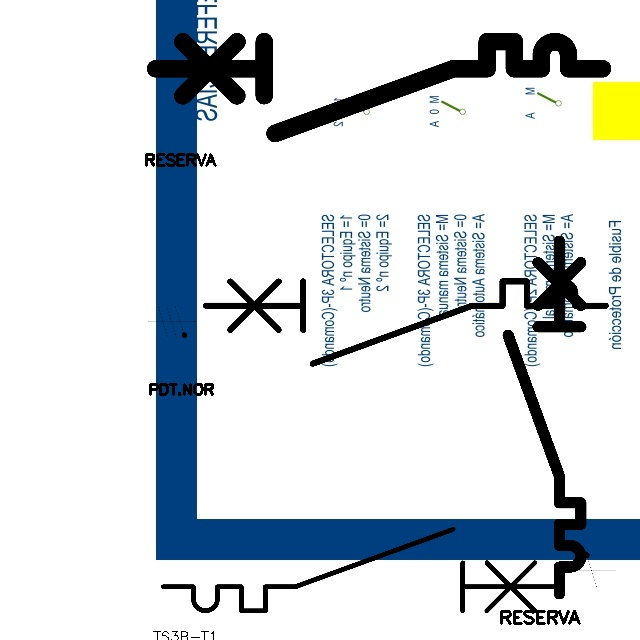interruptor_termomagnetico: (144, 30, 614, 145), (195, 271, 615, 374), (153, 519, 568, 621), (499, 232, 590, 603)
